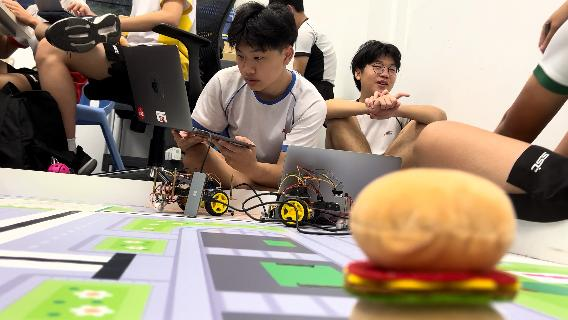burger: (344, 165, 526, 311)
